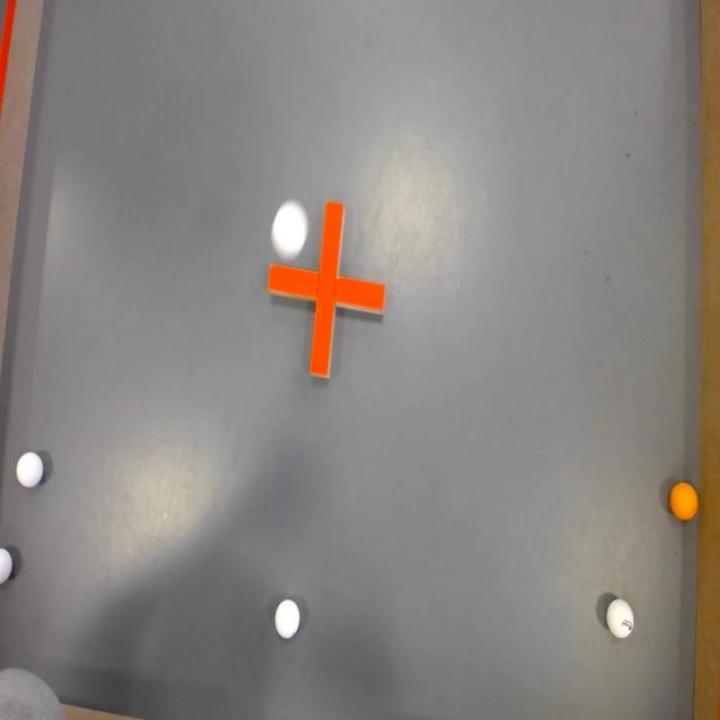orange: (666, 482, 700, 523)
white: (272, 201, 309, 261), (606, 599, 637, 642), (274, 599, 303, 639), (15, 452, 44, 489), (0, 547, 16, 585)
